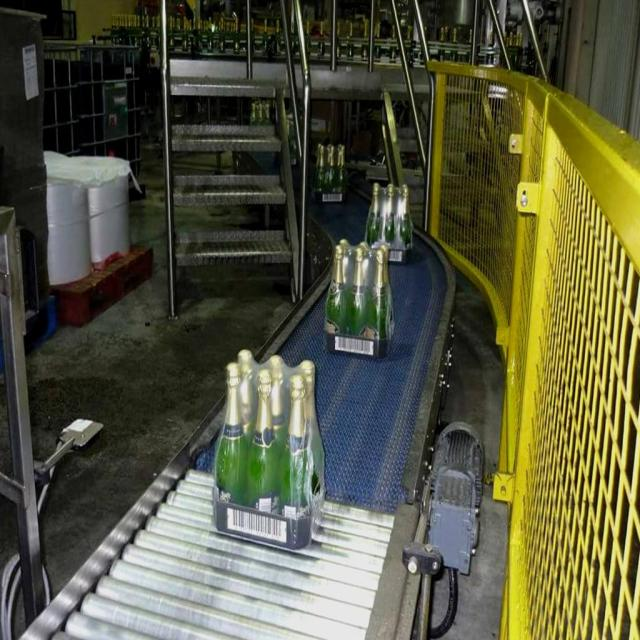bottle: (280, 373, 314, 549), (213, 361, 248, 513), (249, 366, 283, 514), (367, 247, 392, 349), (328, 239, 350, 351)
